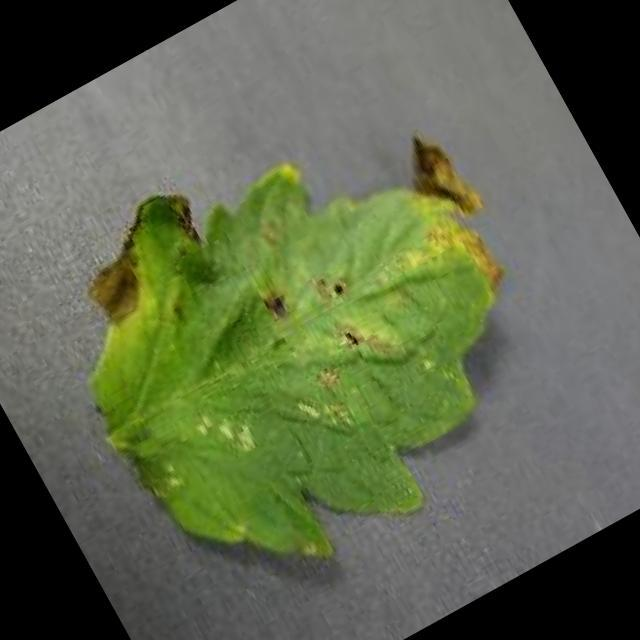Tomato bacterial spot leaf: (10, 50, 607, 640)
